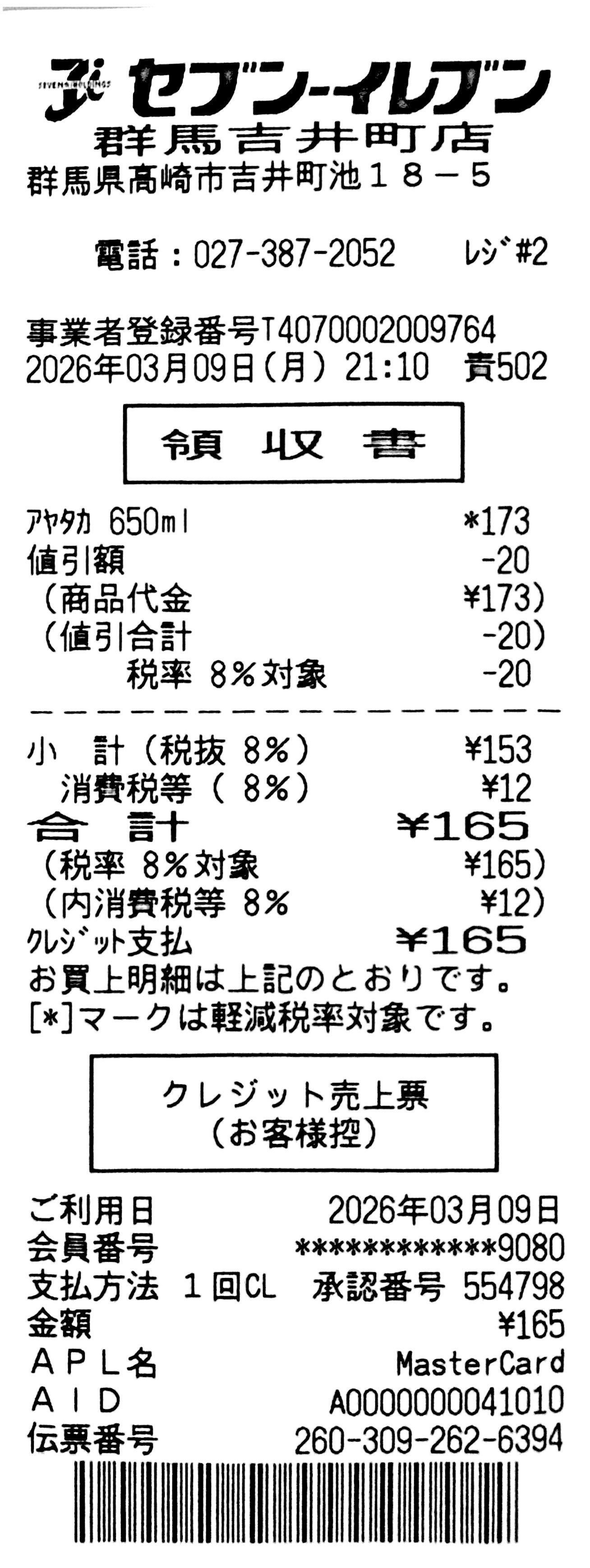Date: (26, 352, 253, 384)
Pay: (26, 810, 530, 843)
Shopname: (129, 57, 552, 118)
Telnum: (193, 237, 396, 270)
